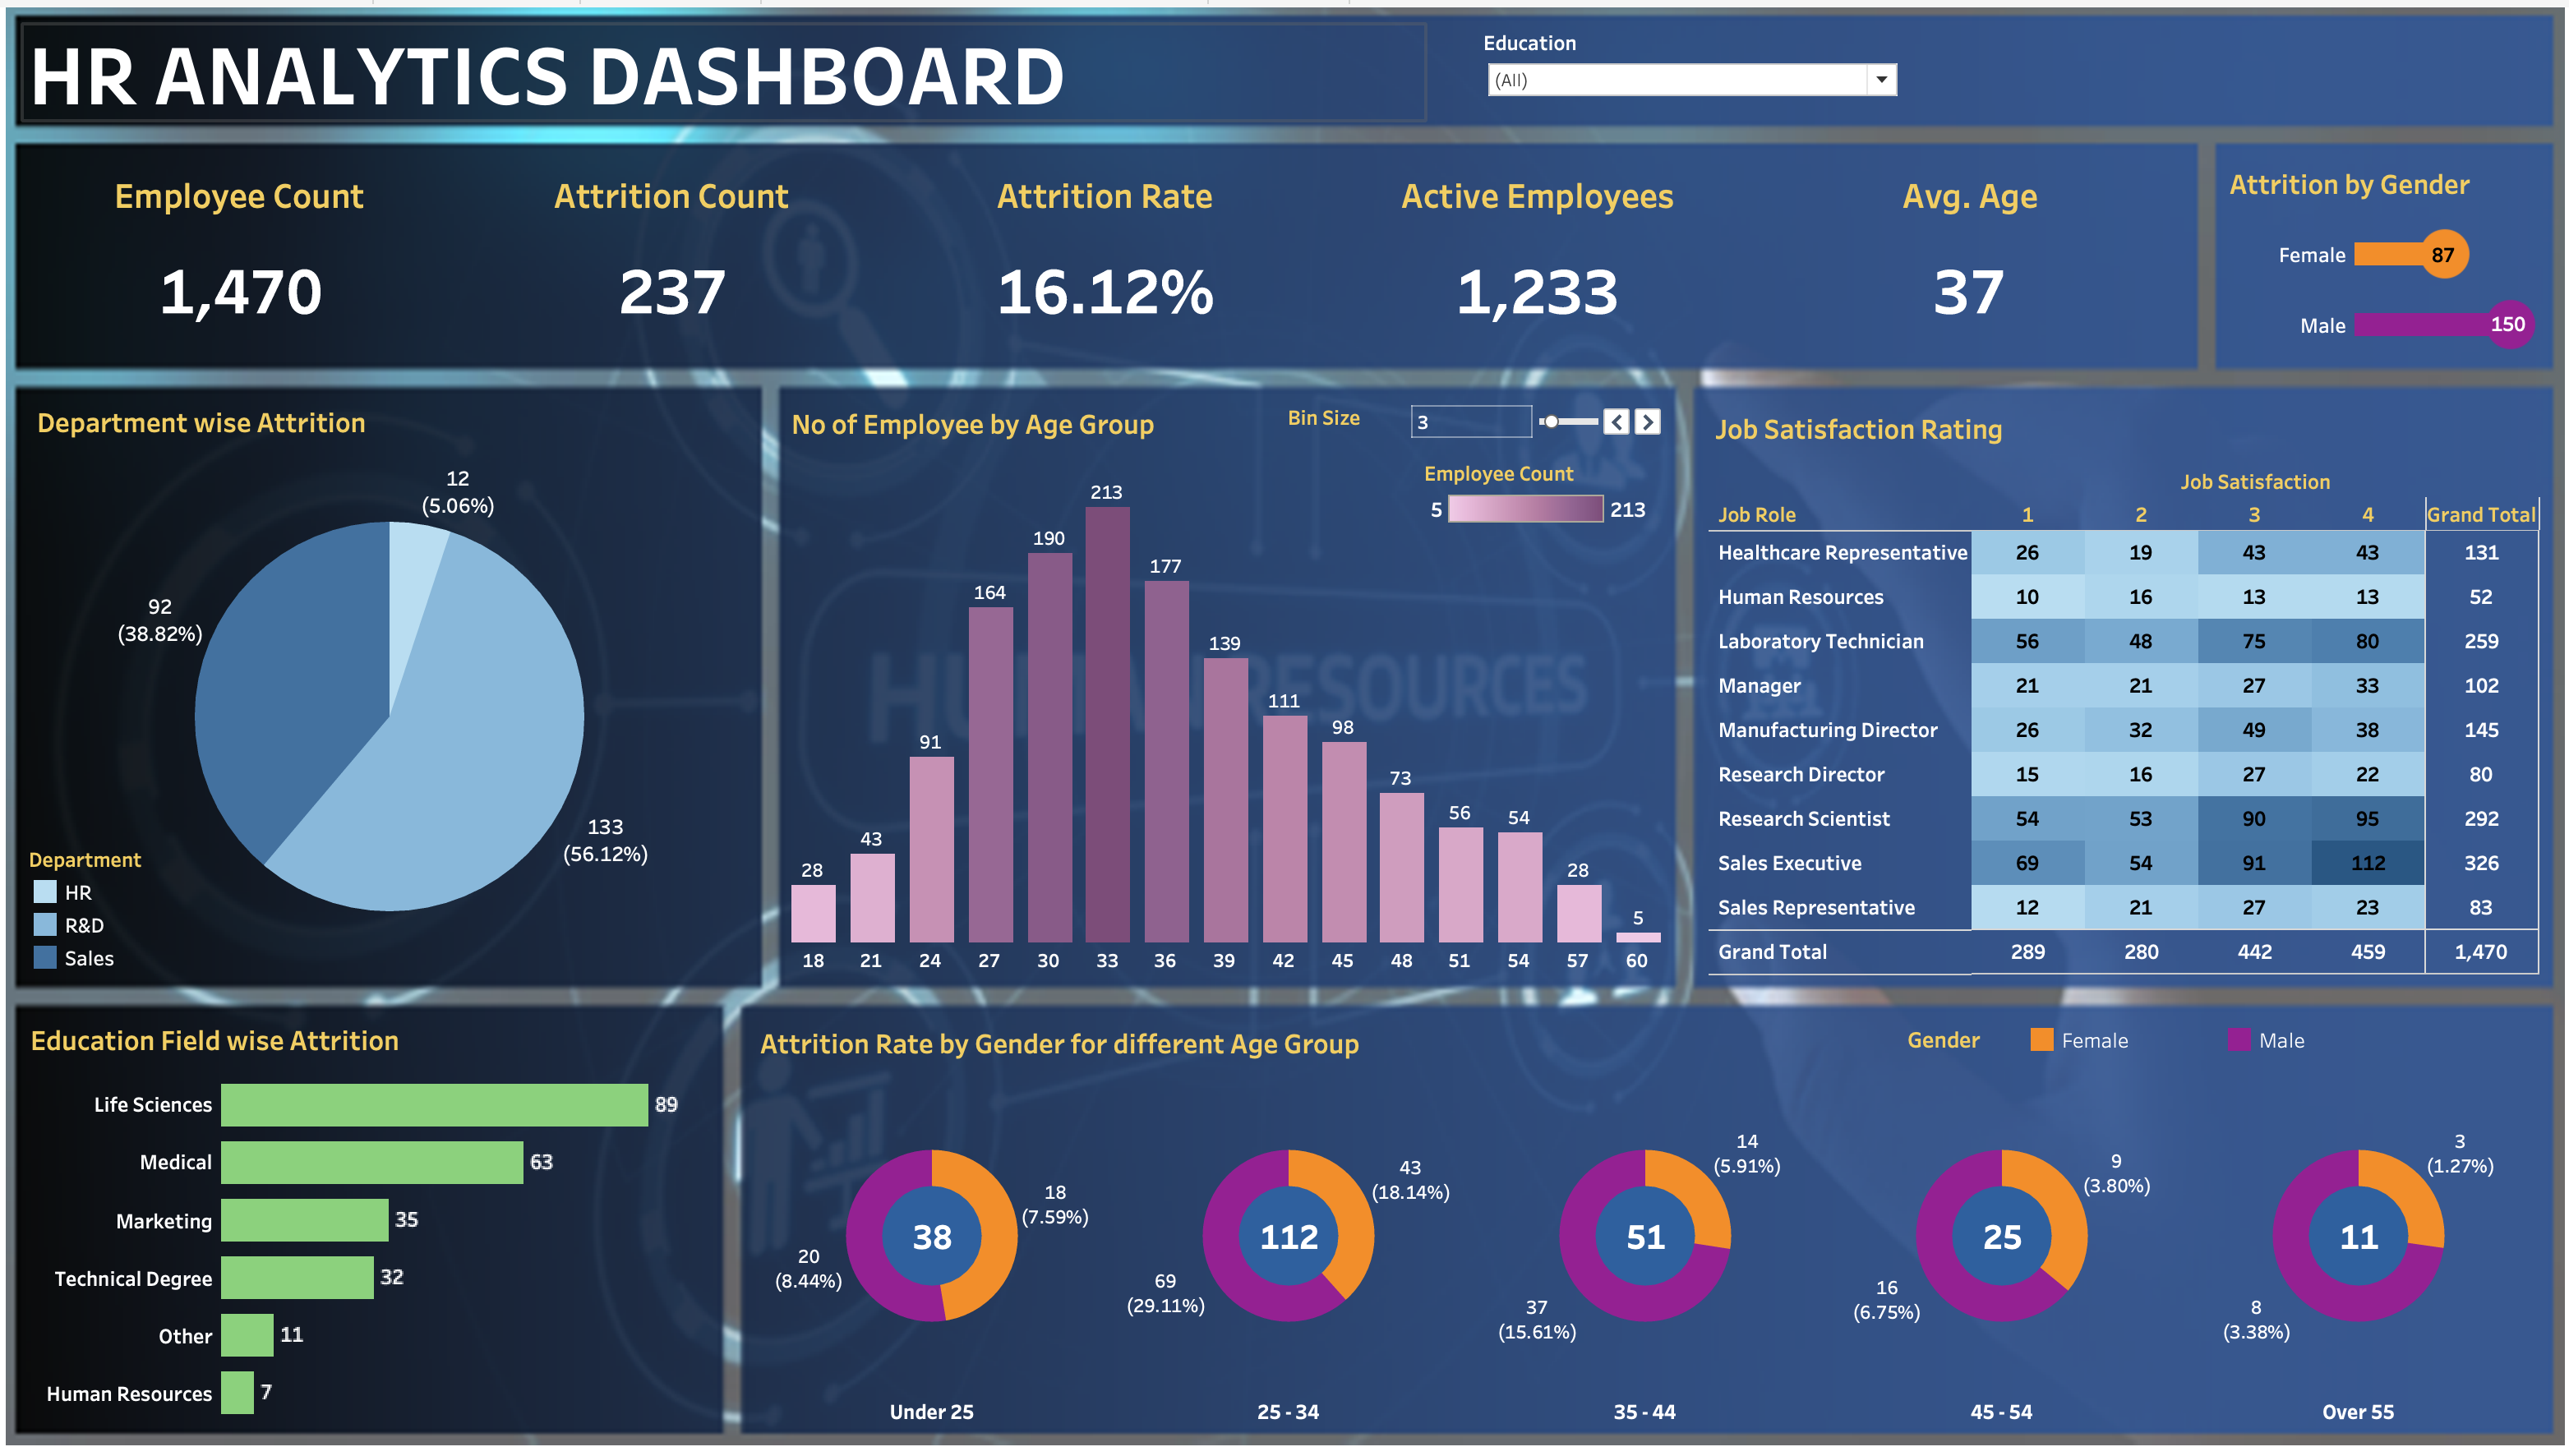

The page's visual inventory and layout, read from the dashboard file:
{"tool":"tableau","page":{"name":"HR ANALYTICS DASHBOARD","canvas":[1680,900],"ordinal":0},"visuals":[{"type":"image","param":"/Users/rajannepal/Documents/Projects/Tableau_Projects/HR_Analytics_Dashboard/HR_","box":[8,8,1664,884]},{"type":"text","box":[72,24,852,57]},{"type":"filter","title":"Attrition Rate by Gender for different Age Group","param":"[federated.14lipcw05d2npa1c0s02b1e4p82t].[none:Education:nk]","box":[960,26,255,53]},{"type":"worksheet","title":"KPI","mark":"Automatic","box":[72,101,1316,125]},{"type":"worksheet","title":"Attrition by Gender","mark":"Automatic","rows":["Gender"],"cols":["Calculation_1158832488686559232","Calculation_1158832488686559232"],"box":[1410,105,195,122]},{"type":"worksheet","title":"Department wise Attrition","mark":"Pie","box":[76,250,437,352]},{"type":"worksheet","title":"No of Employee by Age Group","mark":"Automatic","rows":["Employee Count"],"cols":["Age (bin)"],"box":[535,251,537,351]},{"type":"parameter","param":"[Parameters].[Parameter 1]","box":[841,252,230,29]},{"type":"worksheet","title":"Job Satisfaction Rating","mark":"Square","rows":["Job Role"],"cols":["Job Satisfaction"],"box":[1097,254,506,348]},{"type":"legend","title":"No of Employee by Age Group","param":"[federated.14lipcw05d2npa1c0s02b1e4p82t].[sum:Employee Count:qk]","box":[924,288,140,40]},{"type":"legend","title":"Department wise Attrition","param":"[federated.14lipcw05d2npa1c0s02b1e4p82t].[none:Department:nk]","box":[75,523,76,78]},{"type":"worksheet","title":"Education Field wise Attrition","mark":"Automatic","rows":["Education Field"],"cols":["Calculation_1158832488686559232"],"box":[72,626,418,248]},{"type":"worksheet","title":"Attrition Rate by Gender for different Age Group","mark":"Pie","rows":["Calculation_378865330684665857","Calculation_378865330684665857"],"cols":["CF_age band"],"box":[516,628,1085,248]},{"type":"legend","title":"Attrition Rate by Gender for different Age Group","param":"[federated.14lipcw05d2npa1c0s02b1e4p82t].[none:Gender:nk]","box":[1218,631,381,26]}]}

Visuals, with their boxes in screenshot pixels (x1, y1, x2, y2):
image: 0 7 2568 1439
text: 3 32 1384 125
"Attrition Rate by Gender for different Age Group" filter: 1442 35 1856 122
"KPI" worksheet: 3 157 2136 360
"Attrition by Gender" worksheet: 2172 164 2488 362
"Department wise Attrition" worksheet (Pie marks): 10 399 717 969
"No of Employee by Age Group" worksheet: 754 400 1624 969
parameter: 1249 402 1622 449
"Job Satisfaction Rating" worksheet (Square marks): 1664 405 2484 969
"No of Employee by Age Group" legend: 1384 460 1611 525
"Department wise Attrition" legend: 8 841 131 967
"Education Field wise Attrition" worksheet: 3 1008 680 1410
"Attrition Rate by Gender for different Age Group" worksheet (Pie marks): 722 1011 2481 1413
"Attrition Rate by Gender for different Age Group" legend: 1861 1016 2478 1058
